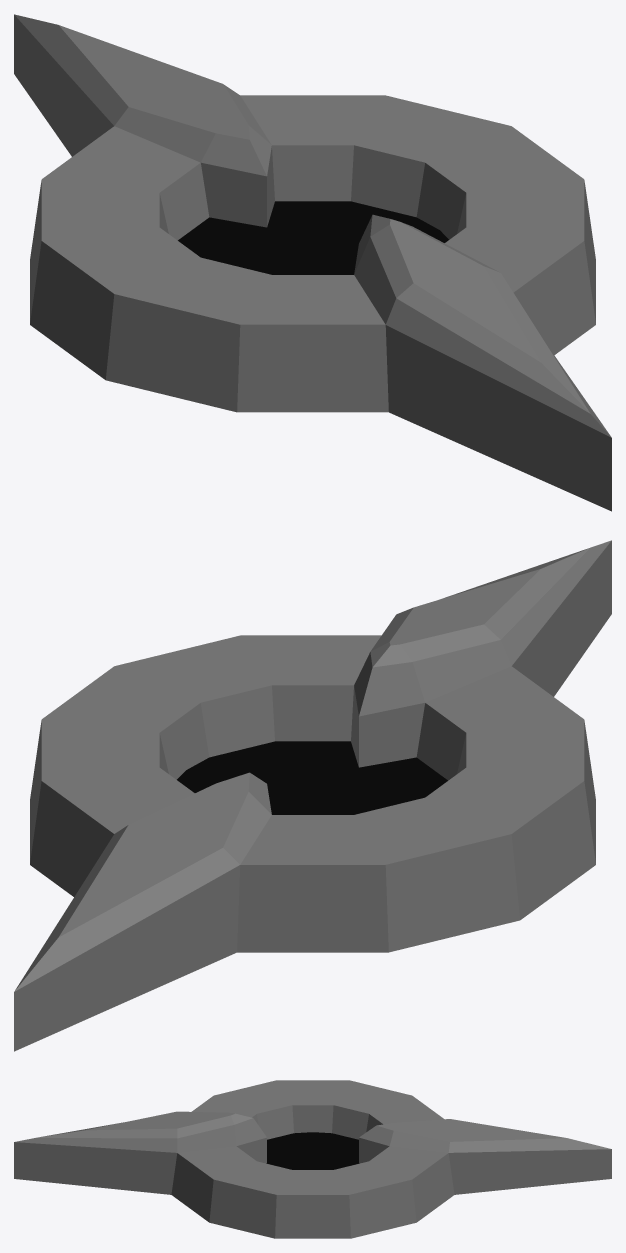
Rendered from SingleSpikeStoneTrap_1.fbx.
The picture shows the model from 3 angles, top to bottom: view 1: azimuth 30°, elevation 25°; view 2: azimuth 150°, elevation 25°; view 3: azimuth 270°, elevation 25°; orthographic projection. The views are drawn at different scales.
Parts seen in each view (by area): view 1: SingleSpikeStoneTrap_1; view 2: SingleSpikeStoneTrap_1; view 3: SingleSpikeStoneTrap_1.
Boxes of the visible parts, bbox=[...] form: SingleSpikeStoneTrap_1: bbox=[14, 14, 611, 511]; SingleSpikeStoneTrap_1: bbox=[14, 540, 611, 1051]; SingleSpikeStoneTrap_1: bbox=[14, 1080, 611, 1238].
Size of the model in its own units: 18.3 by 4.66 by 38.65.
